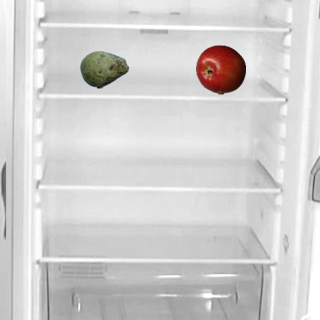Apple Braeburn: (195, 44, 245, 94)
Pear Stone: (79, 44, 129, 94)
